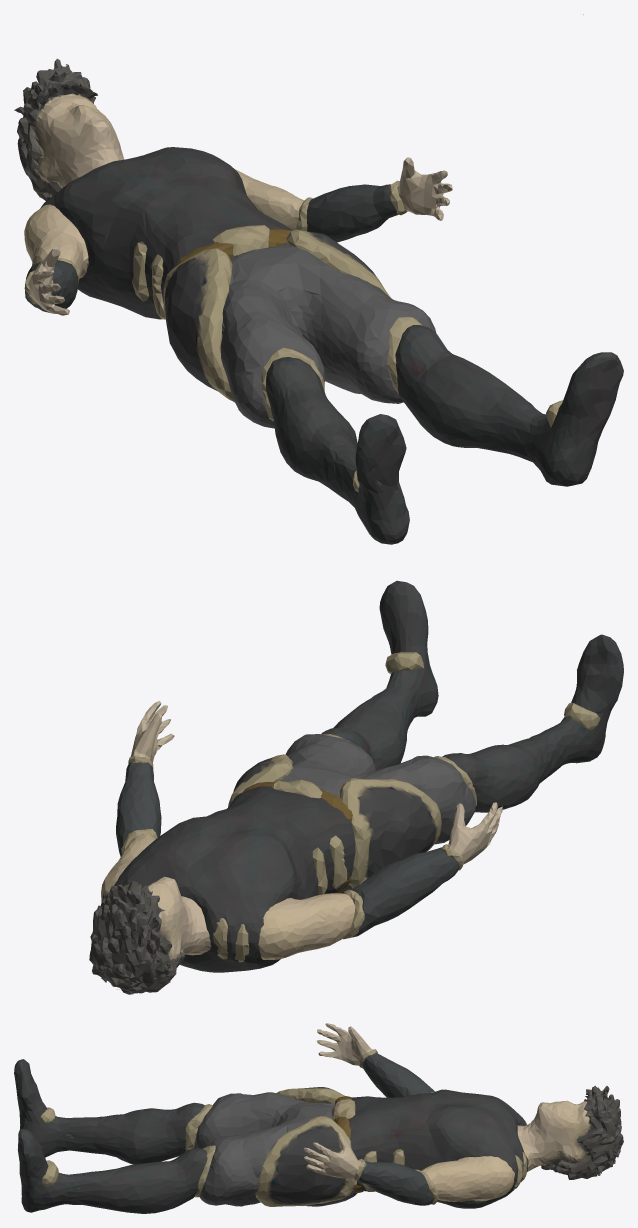
The model's file is Tan.glb.
The picture shows the model from 3 angles, top to bottom: view 1: azimuth 30°, elevation 25°; view 2: azimuth 150°, elevation 25°; view 3: azimuth 270°, elevation 25°; orthographic projection. The views are drawn at different scales.
Bounding box in the file's own units: 0.3409 × 0.167 × 0.493.
